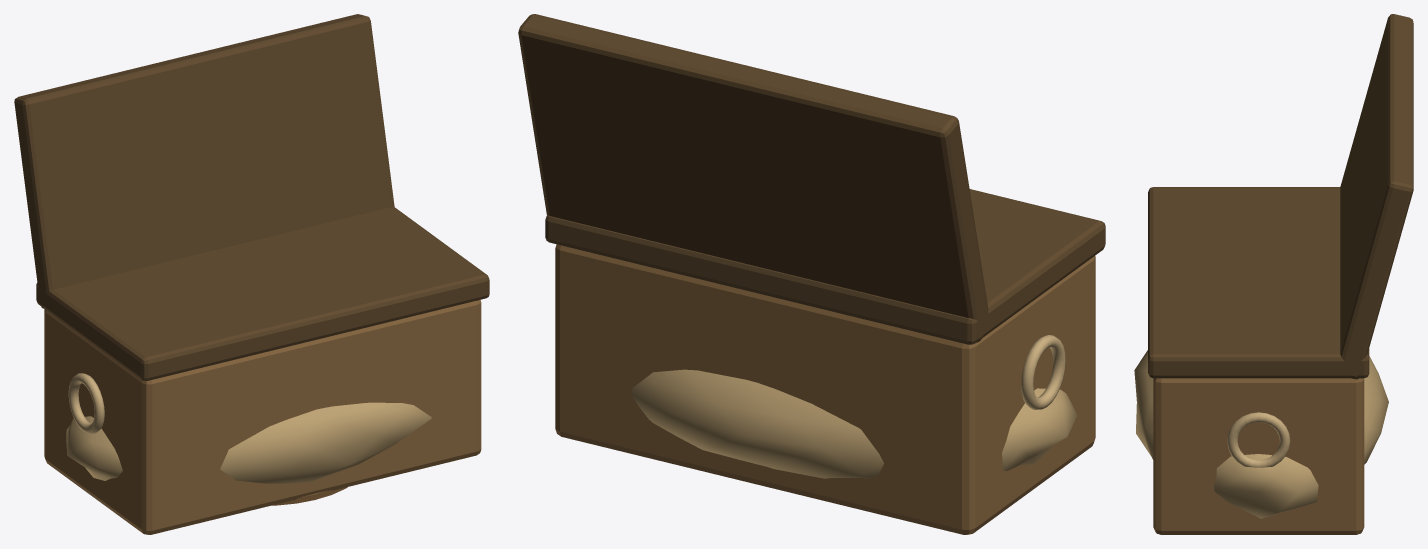
The model's file is kit.glb.
The picture shows the model from 3 angles, left to right: view 1: azimuth 30°, elevation 25°; view 2: azimuth 150°, elevation 25°; view 3: azimuth 270°, elevation 25°; orthographic projection. The views are drawn at different scales.
Visible parts, largest first — view 1: KEEP AmmoBox, KEEP AmmoBoxOpen, KEEP Sandbag; view 2: KEEP AmmoBox, KEEP AmmoBoxOpen, KEEP Sandbag; view 3: KEEP AmmoBox, KEEP AmmoBoxOpen, KEEP Sandbag.
Part boxes in pixels (box(x1,y1,x2,y2)): KEEP AmmoBox: box(36, 207, 489, 534); KEEP AmmoBoxOpen: box(14, 14, 394, 308); KEEP Sandbag: box(66, 402, 431, 483); KEEP AmmoBox: box(545, 189, 1105, 534); KEEP AmmoBoxOpen: box(518, 14, 988, 342); KEEP Sandbag: box(631, 369, 1077, 478); KEEP AmmoBox: box(1148, 187, 1369, 534); KEEP AmmoBoxOpen: box(1340, 14, 1413, 379); KEEP Sandbag: box(1134, 350, 1388, 518).
Bounding box in the file's own units: 0.8499 × 0.7774 × 0.5298.
